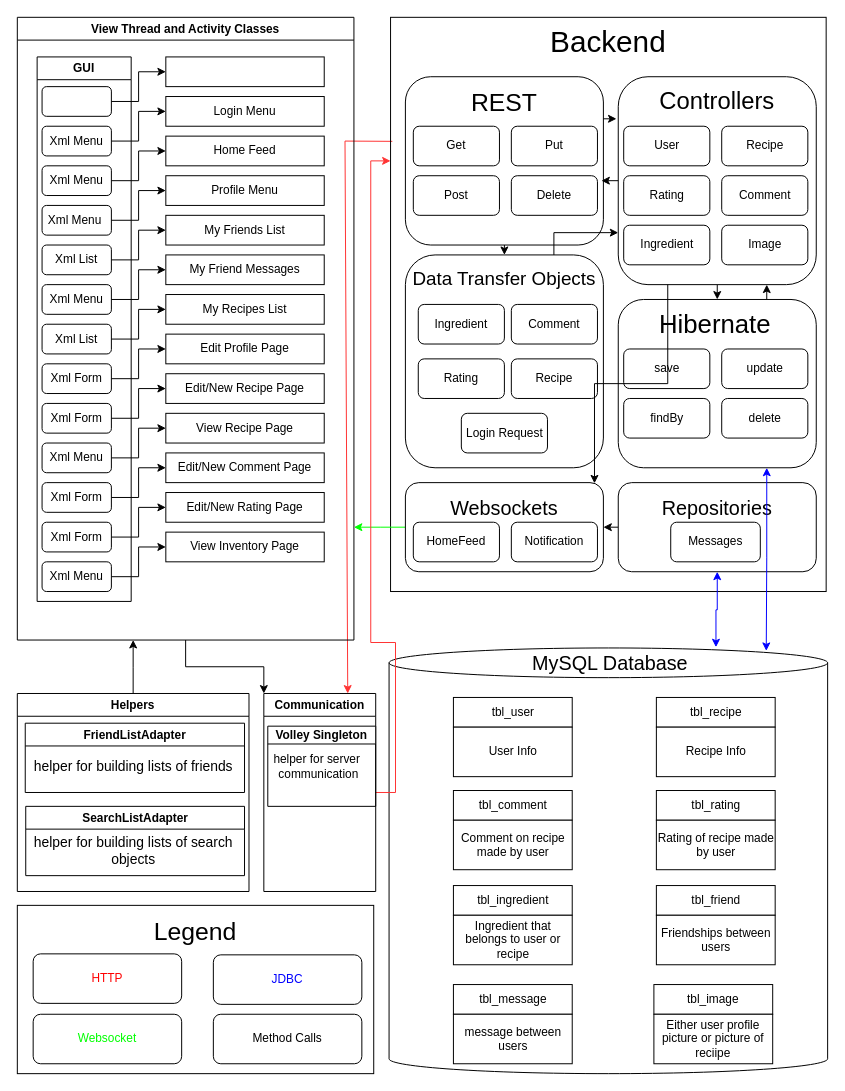
The diagram is 845 pixels wide and 1091 high, and some of its shapes have lost their labels. The centre of each missing label's shape, as x and y in pixels:
"Register Page" goes at [244,71].
"Xml Register" goes at [76,101].
